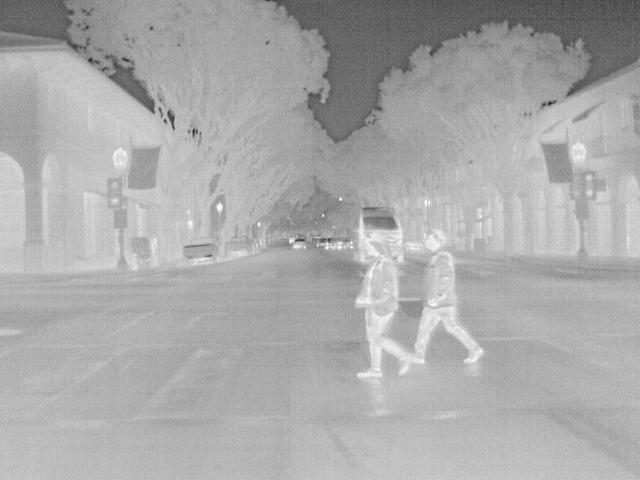car: (353, 204, 403, 260), (183, 236, 223, 266), (224, 234, 254, 256), (325, 236, 343, 252), (291, 236, 310, 250), (317, 236, 331, 248)
person: (410, 227, 486, 364), (352, 233, 419, 379)
